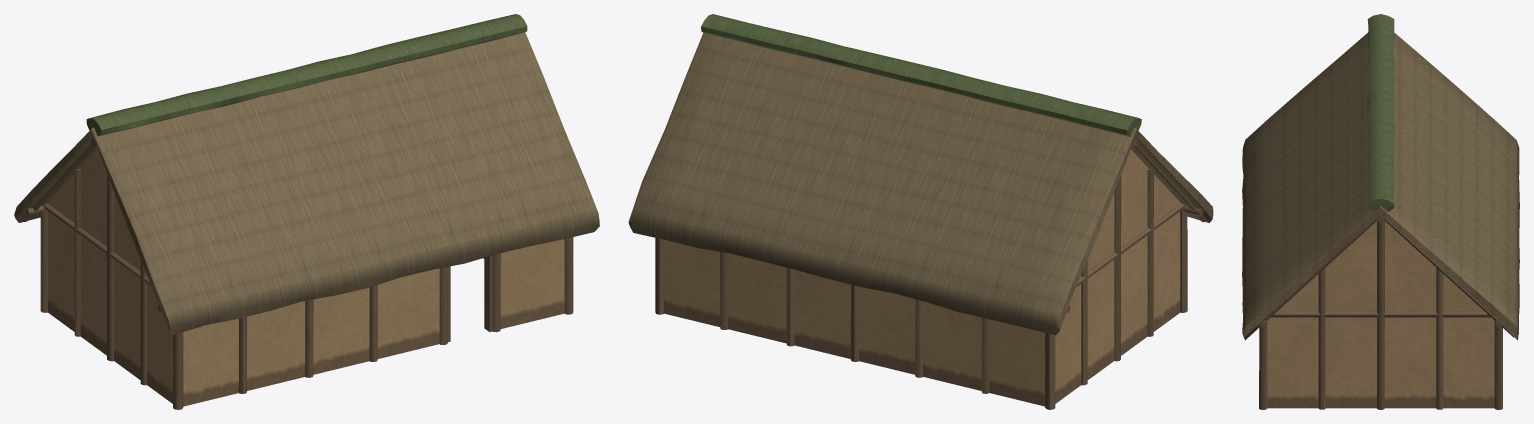
File: house_005_plain.glb
3 views of the same model, side by side, from view 1: azimuth 30°, elevation 25°; view 2: azimuth 150°, elevation 25°; view 3: azimuth 270°, elevation 25° (orthographic). The views are drawn at different scales.
Parts seen in each view (by area): view 1: Roof, Wall, Frame, DoorRecess; view 2: Roof, Wall, Frame; view 3: Roof, Wall, Frame.
Boxes of the visible parts, left/top/right/bottom form: Roof: left=14, top=14, right=599, bottom=335; Wall: left=47, top=149, right=564, bottom=406; Frame: left=23, top=137, right=573, bottom=409; DoorRecess: left=448, top=255, right=492, bottom=342; Roof: left=628, top=14, right=1213, bottom=335; Wall: left=664, top=149, right=1180, bottom=406; Frame: left=655, top=137, right=1205, bottom=409; Roof: left=1242, top=14, right=1519, bottom=340; Wall: left=1267, top=221, right=1494, bottom=408; Frame: left=1249, top=215, right=1514, bottom=409.
Bounding box in the file's own units: 9.4 × 5.09 × 5.9.
Materials: 3 (3 with a texture image).
